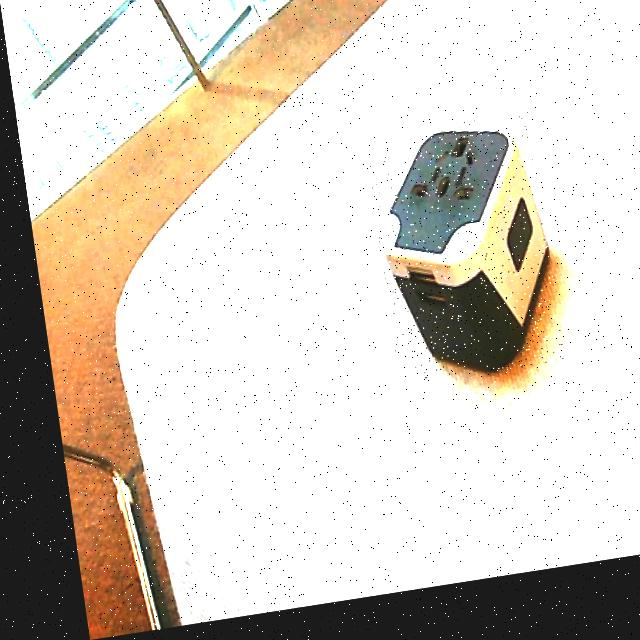adapter: (358, 128, 552, 398)
